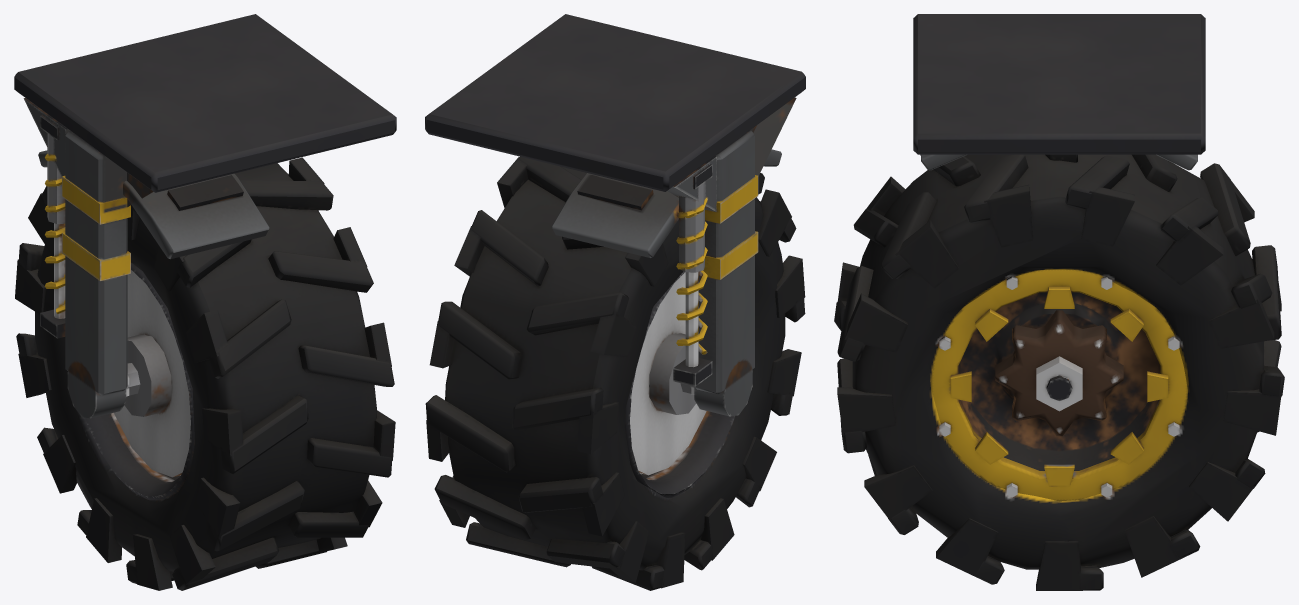
The model's file is R4M_Wheel_LOD1.fbx.
3 views of the same model, side by side, from view 1: azimuth 30°, elevation 25°; view 2: azimuth 150°, elevation 25°; view 3: azimuth 270°, elevation 25° (orthographic). The views are drawn at different scales.
Parts seen in each view (by area): view 1: R4M_Wheel_LOD1; view 2: R4M_Wheel_LOD1; view 3: R4M_Wheel_LOD1.
Part boxes in pixels (bbox=[...]): R4M_Wheel_LOD1: bbox=[14, 14, 396, 590]; R4M_Wheel_LOD1: bbox=[425, 14, 805, 590]; R4M_Wheel_LOD1: bbox=[834, 14, 1284, 590].
Size of the model in its own units: 0.504 by 0.9055 by 0.7711.
1 material, 1 textured.
